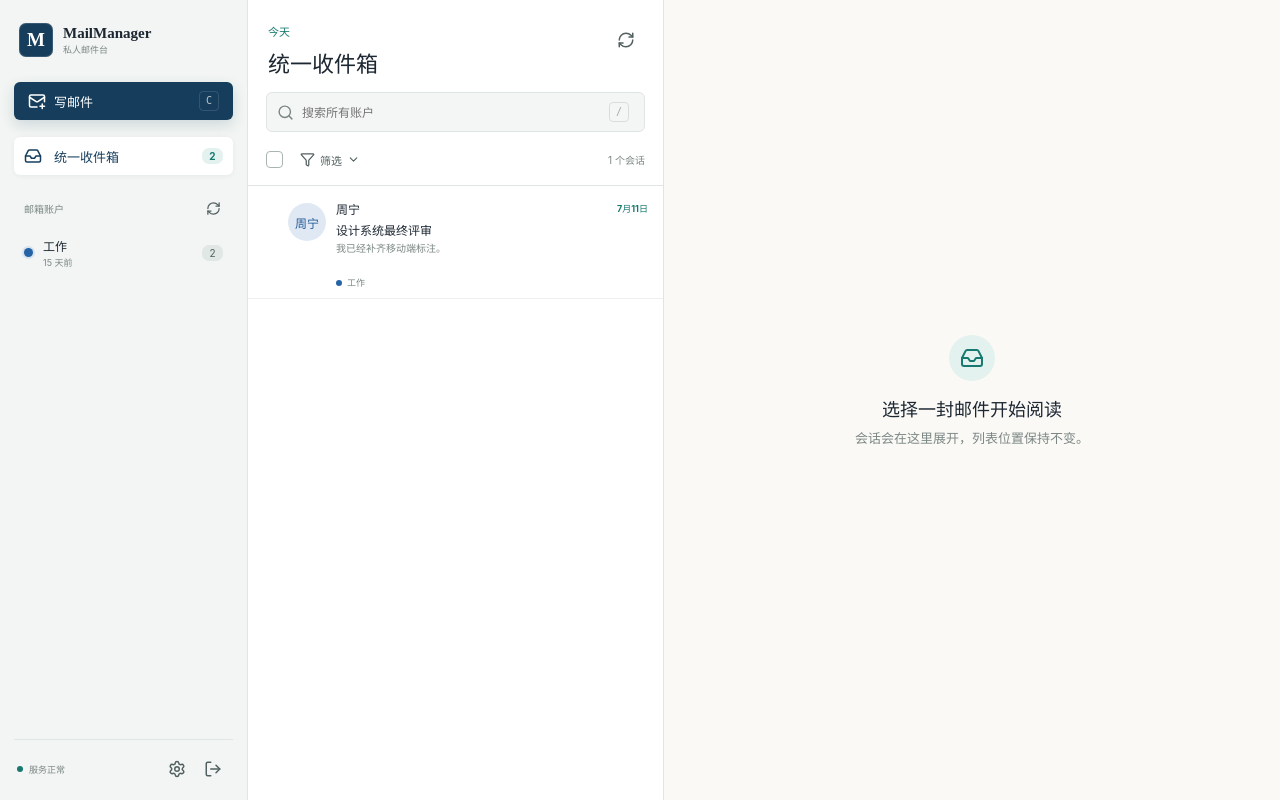
Test: MailManager frontend › opens the composer without replacing the workspace
Expected: the heading "统一收件箱" is shown, [268,46,378,78]
Step 1. Click the button with class "compose-button" → (124, 101), box [14,82,233,120]
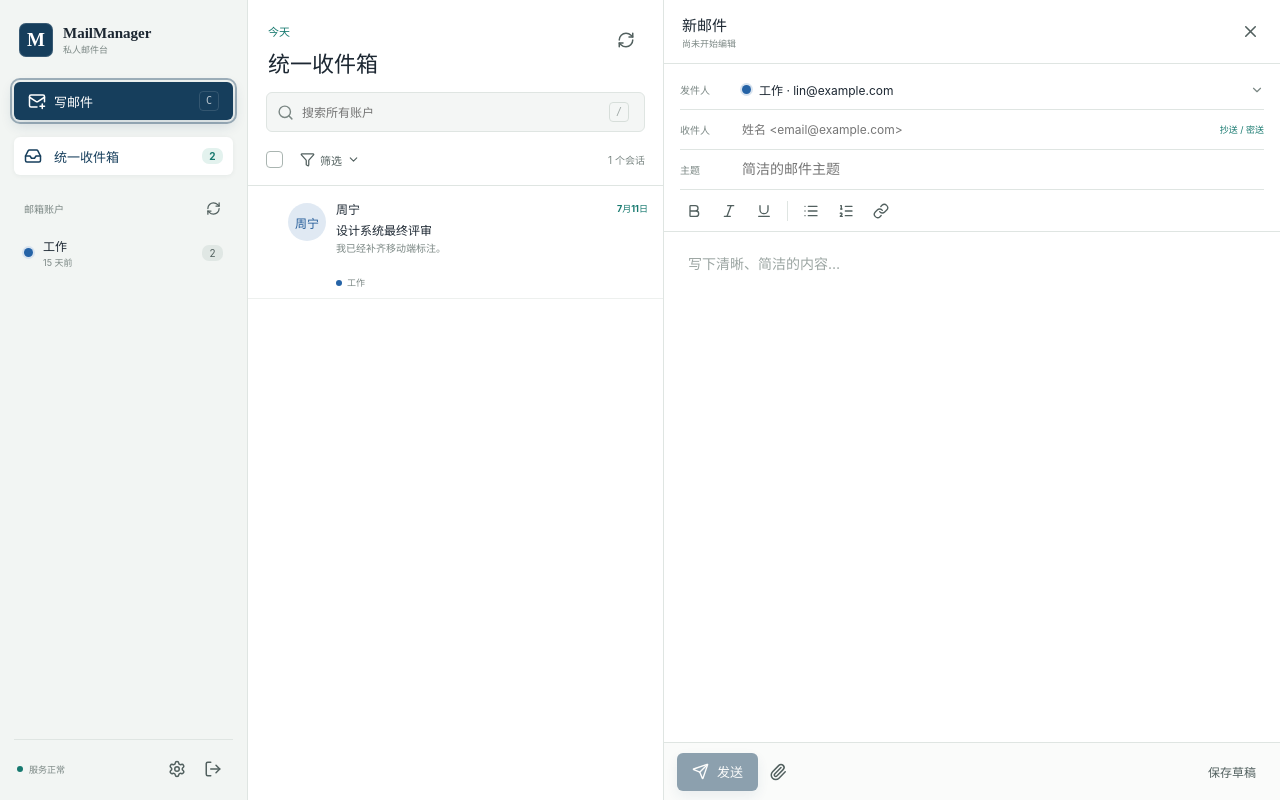
Expected: the heading "统一收件箱" is shown, [268,46,378,78]
Now the element "新邮件" is shown, box [664,0,1279,799]
